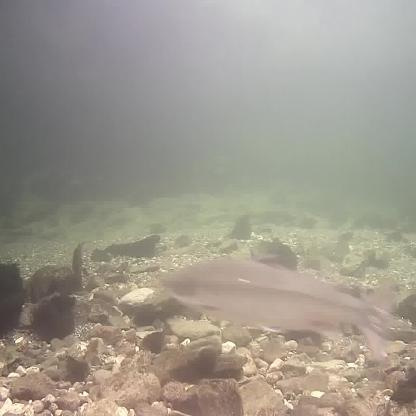salmon: (157, 248, 400, 361)
